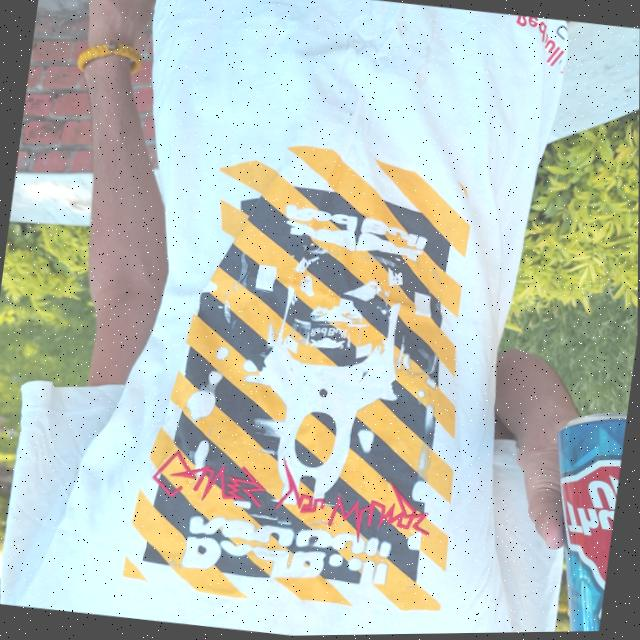Thums Up: (529, 404, 628, 634)
